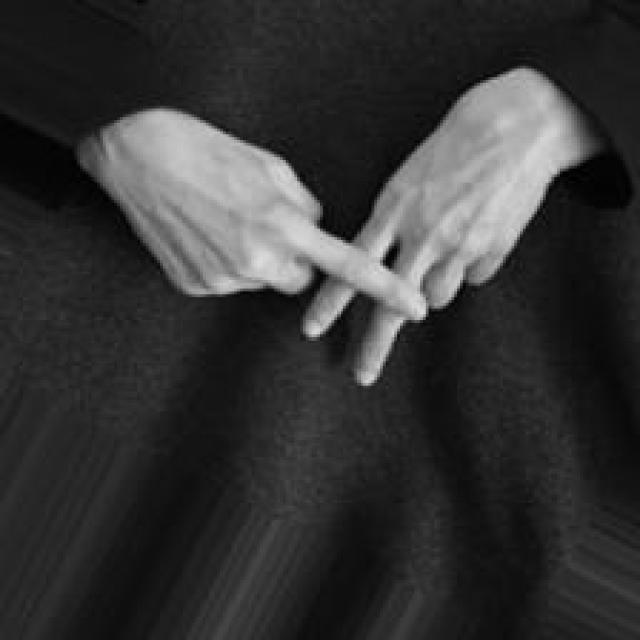A: (82, 53, 557, 392)
